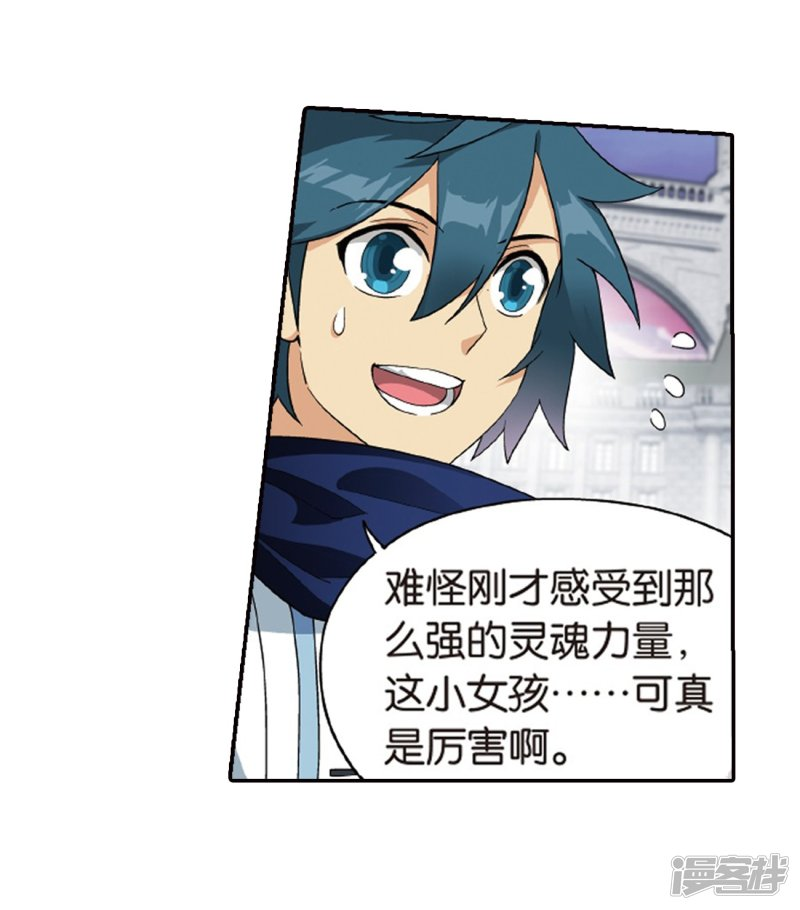boxEllipse: (313, 499, 733, 779)
minBox: (226, 106, 733, 783)
